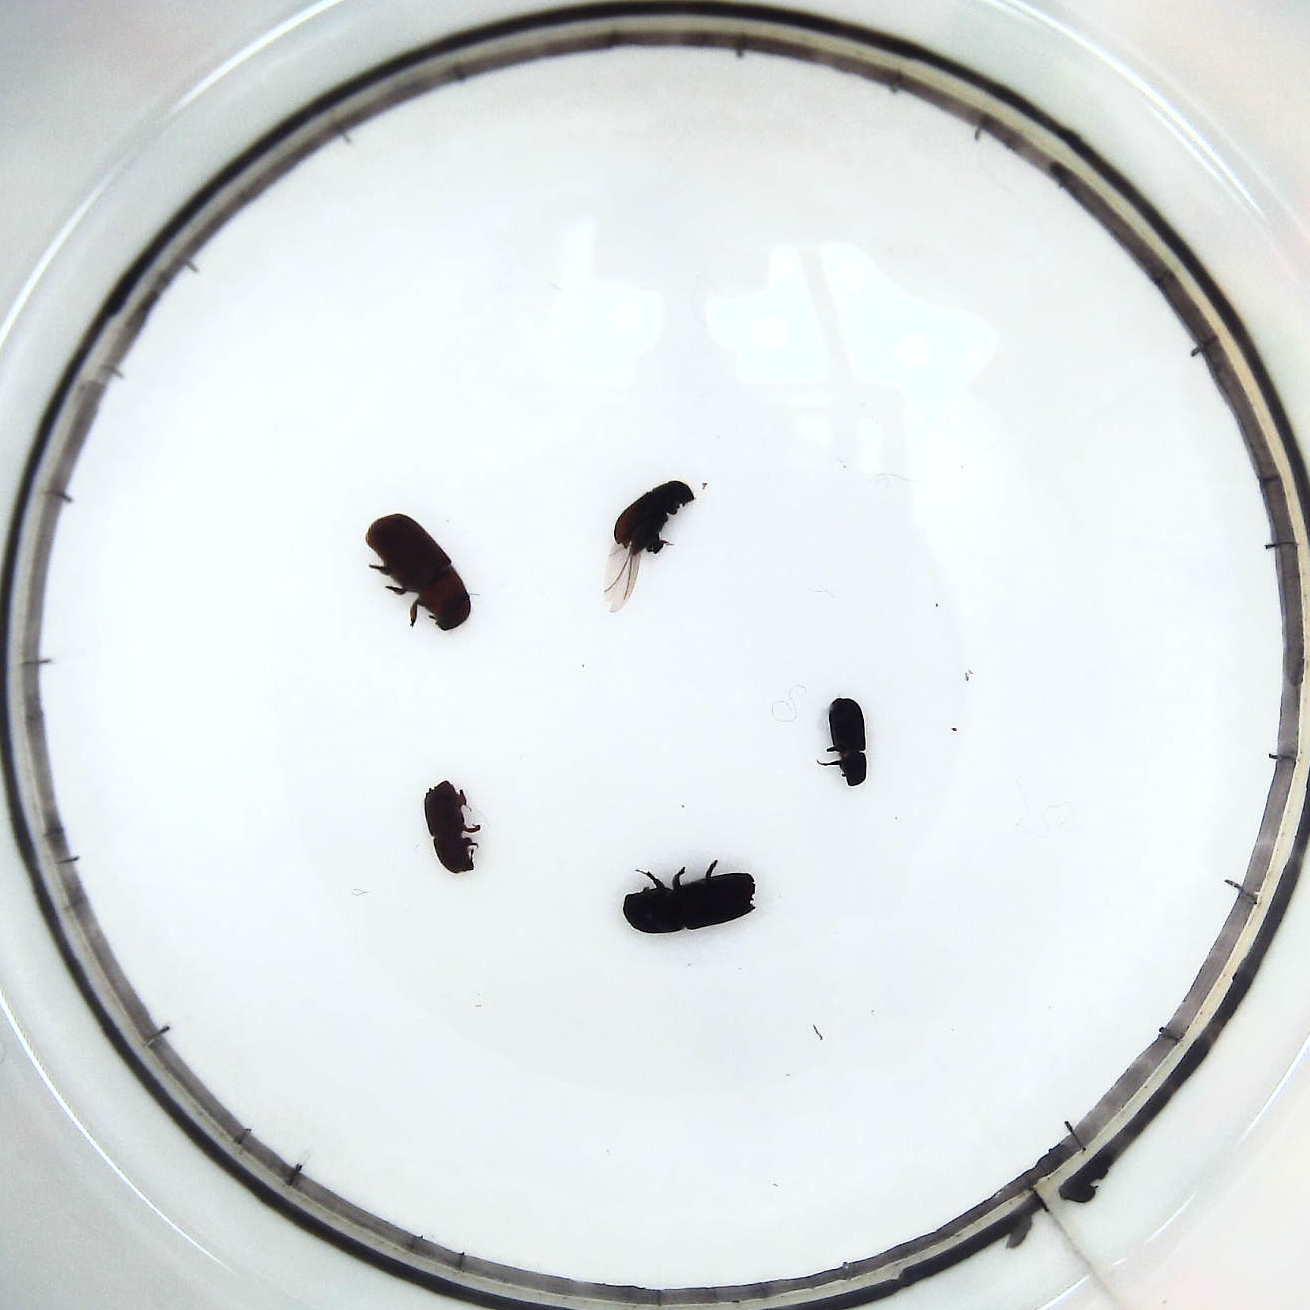Boerner: (617, 855, 761, 941)
Leconte: (363, 509, 477, 638)
armandi: (603, 475, 701, 603)
coleoptera: (815, 695, 875, 794)
linnaeus: (422, 775, 485, 877)
